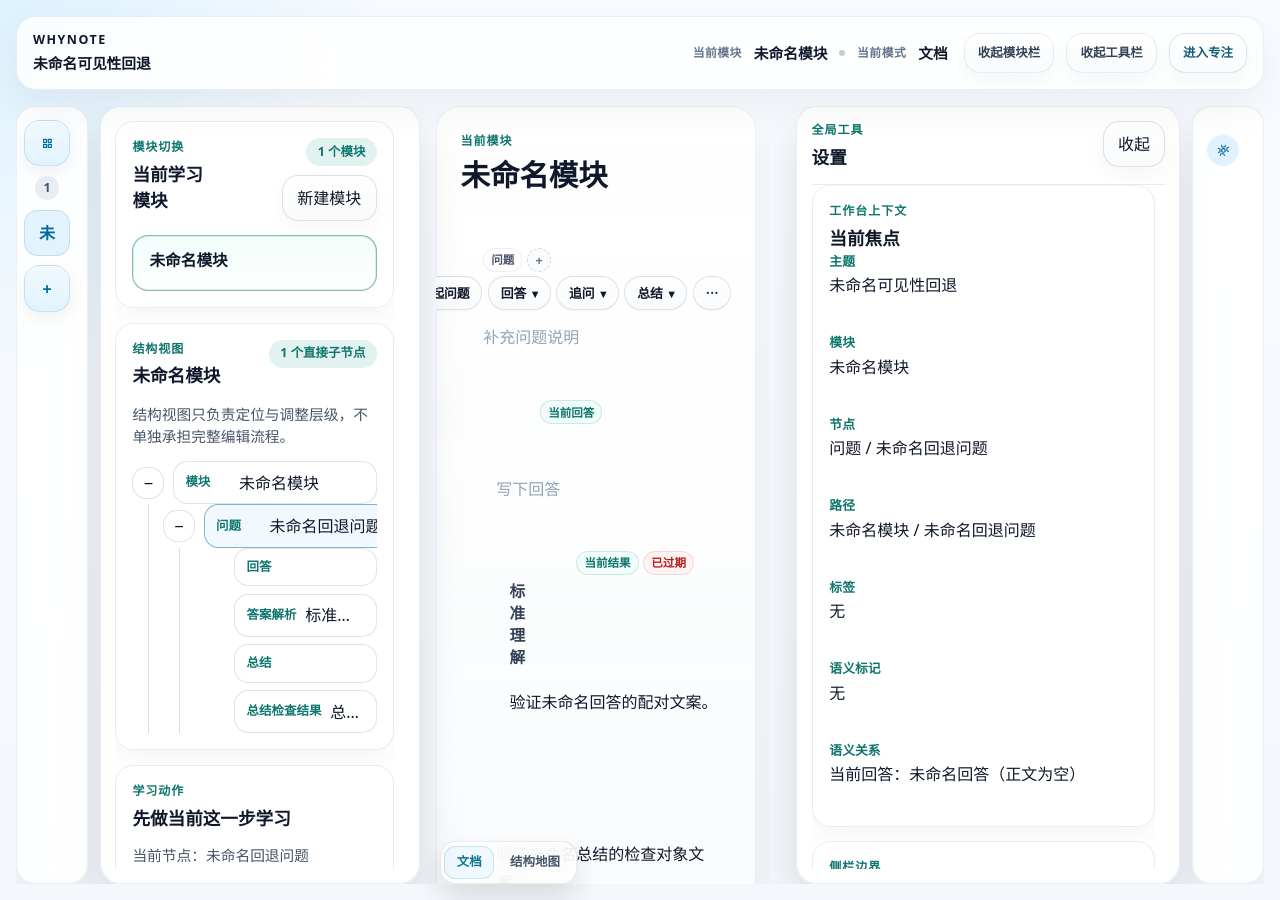
Test case: shows readable fallback labels for unnamed current answers and summary pairing targets
Expected: the text "当前回答：未命名回答（正文为空）" is shown, [829,763,1085,785]
Click the element with test id "editor-node-summary-unnamed-answer-result": {"x": 607, "y": 563} [504,551,726,720]
(page scrolled)
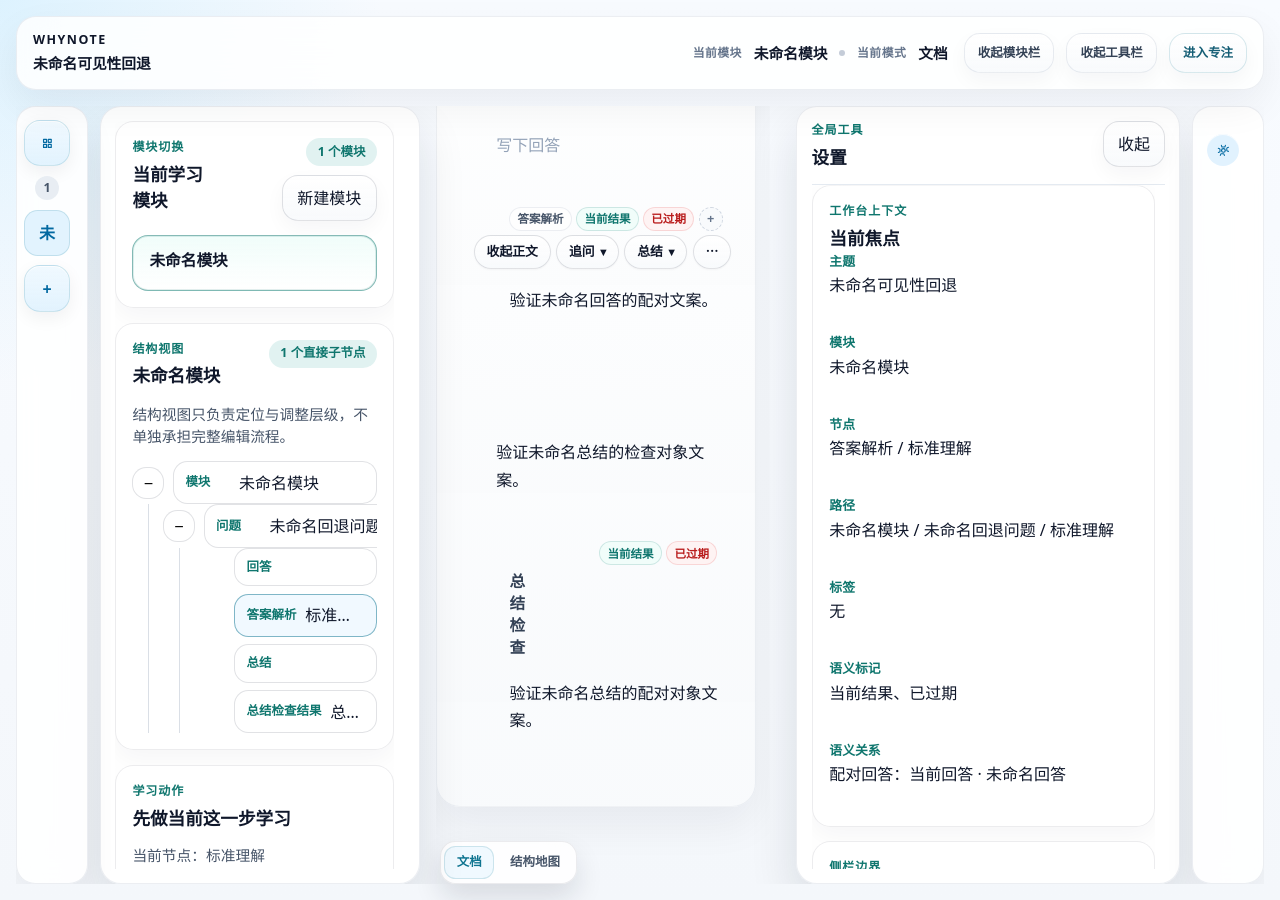
Expected: the text "配对回答：当前回答 · 未命名回答" is shown, [829,763,1066,785]
Click the element with test id "editor-node-judgment-unnamed-summary-result": {"x": 630, "y": 553} [504,541,726,738]
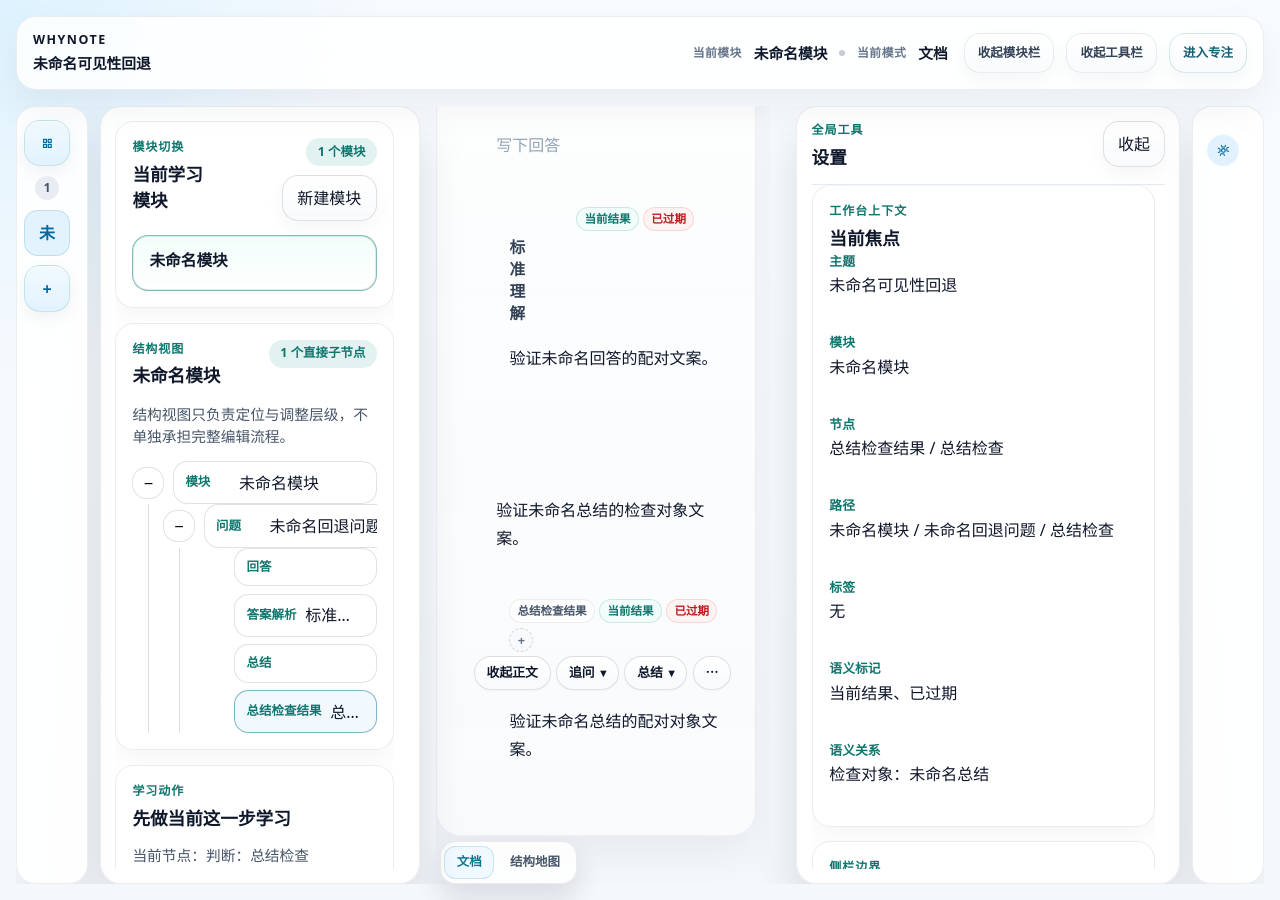
Expected: the text "检查对象：未命名总结" is shown, [829,763,989,785]
